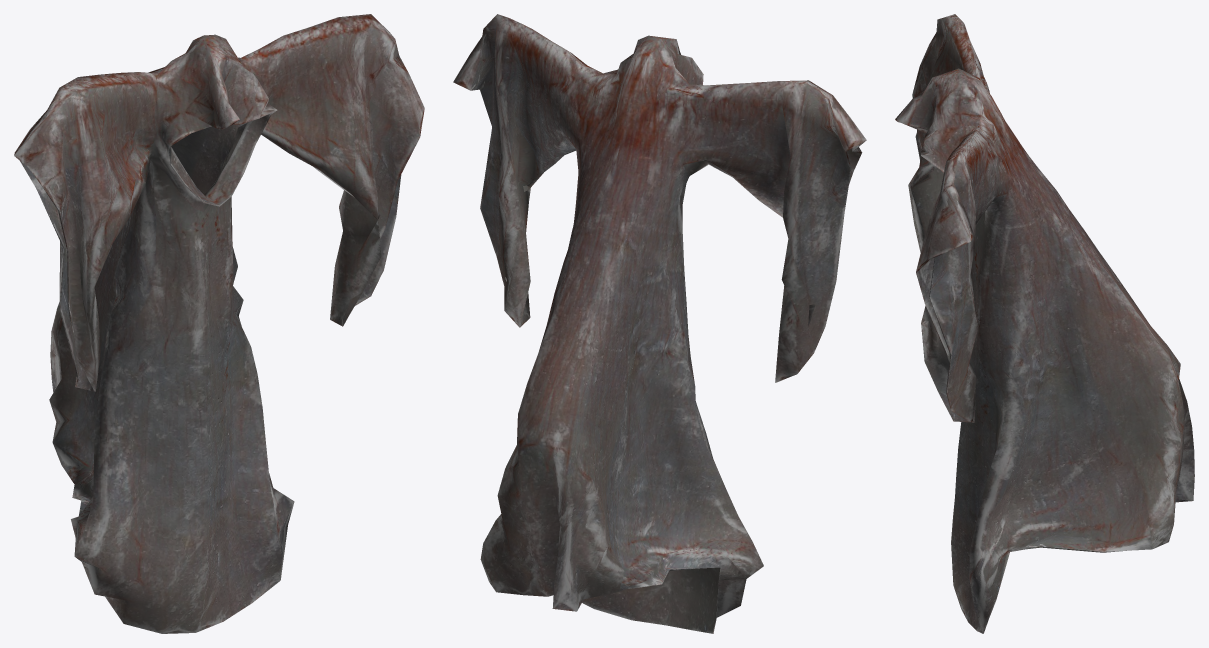
The model's file is Ghost_05.gltf.
3 views of the same model, side by side, from view 1: azimuth 30°, elevation 25°; view 2: azimuth 150°, elevation 25°; view 3: azimuth 270°, elevation 25° (orthographic). The views are drawn at different scales.
Parts seen in each view (by area): view 1: defaultMaterial; view 2: defaultMaterial; view 3: defaultMaterial.
Boxes of the visible parts, <box> form: defaultMaterial: <box>14,14,424,633</box>; defaultMaterial: <box>453,14,866,633</box>; defaultMaterial: <box>895,14,1194,633</box>.
Bounding box in the file's own units: 1.27 × 1.79 × 0.8934.
1 material, 1 textured.
